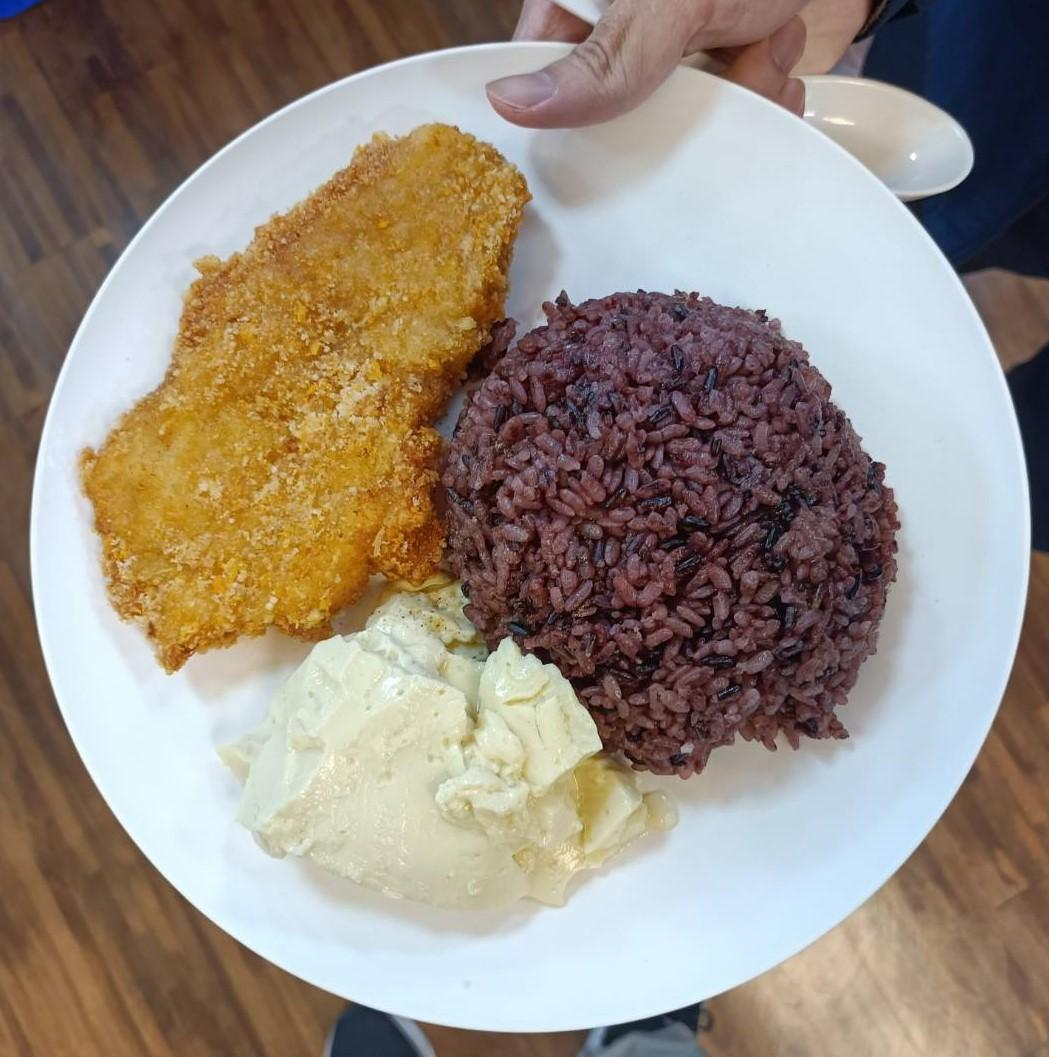big fried chicken leg: (18, 31, 1036, 1026)
braised fish: (438, 283, 900, 752)
braised fish fillet: (198, 596, 678, 930)
braised pork: (60, 121, 542, 660)
